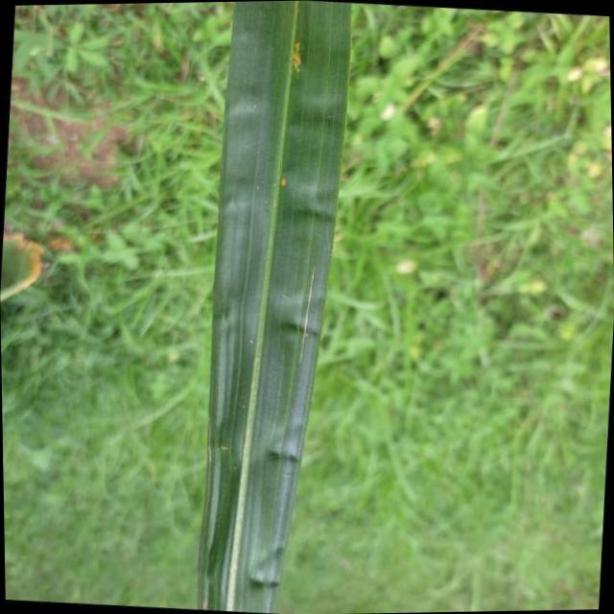Boron: (200, 0, 352, 614)
